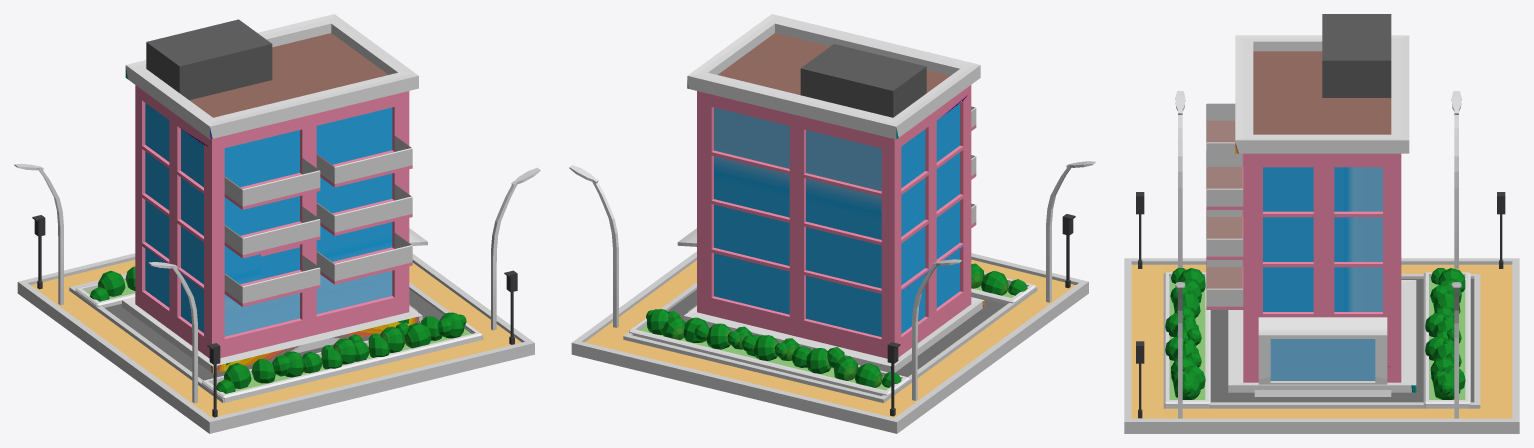
Rendered from building_c.obj.
The picture shows the model from 3 angles, left to right: view 1: azimuth 30°, elevation 25°; view 2: azimuth 150°, elevation 25°; view 3: azimuth 270°, elevation 25°; orthographic projection. The views are drawn at different scales.
Visible parts, largest first — view 1: House, Floor, Bushes.3_1, Floor.4, Bed_1, Light.3, Light.1, Light, Bushes.3, Bed; view 2: House, Floor, Bushes.3, Floor.4, Bed, Light.2, Bushes.3_1, Light.1, Light, Bed_1; view 3: House, Floor, Floor.4, Bushes.3, Bushes.3_1, Bed, Bed_1, Light, Light.1, Light.2, Light.3, traffic:light.2 (+2 smaller).
Boxes of the visible parts, <box> form: House: <box>122,14,427,373</box>; Floor: <box>17,253,534,433</box>; Bushes.3_1: <box>216,312,466,393</box>; Floor.4: <box>69,273,483,402</box>; Bed_1: <box>201,322,482,402</box>; Light.3: <box>491,167,540,330</box>; Light.1: <box>148,262,197,403</box>; Light: <box>14,163,63,305</box>; Bushes.3: <box>89,266,135,301</box>; Bed: <box>75,276,135,307</box>; House: <box>677,14,984,372</box>; Floor: <box>571,251,1088,433</box>; Bushes.3: <box>646,309,901,387</box>; Floor.4: <box>623,282,1037,402</box>; Bed: <box>629,318,909,395</box>; Light.2: <box>569,165,618,327</box>; Bushes.3_1: <box>971,263,1027,295</box>; Light.1: <box>1046,161,1095,302</box>; Light: <box>912,259,961,400</box>; Bed_1: <box>971,272,1035,304</box>; House: <box>1206,14,1416,396</box>; Floor: <box>1124,258,1519,433</box>; Floor.4: <box>1163,274,1480,408</box>; Bushes.3: <box>1425,268,1465,399</box>; Bushes.3_1: <box>1165,268,1205,399</box>; Bed: <box>1423,272,1470,408</box>; Bed_1: <box>1163,272,1210,408</box>; Light: <box>1451,91,1461,268</box>; Light.1: <box>1175,91,1185,267</box>; Light.2: <box>1451,282,1461,418</box>; Light.3: <box>1175,282,1185,418</box>; traffic:light.2: <box>1136,341,1144,418</box>.
Size of the model in its own units: 18.99 by 14.04 by 16.22.
1 material, 1 textured.
